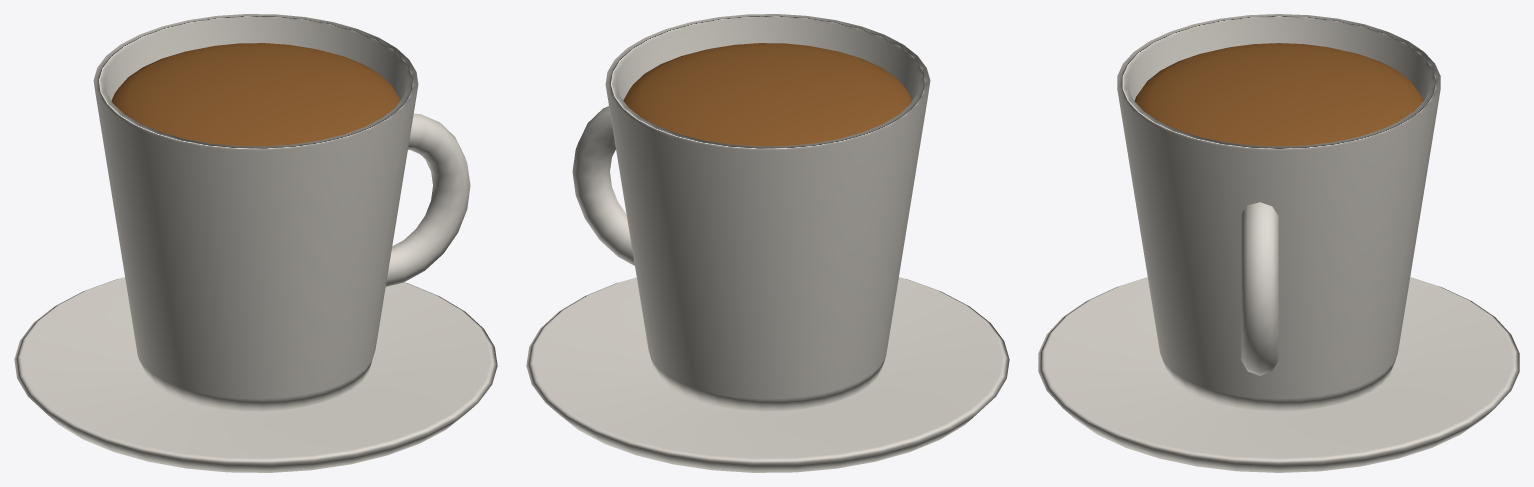
File: americano.glb
The picture shows the model from 3 angles, left to right: view 1: azimuth 30°, elevation 25°; view 2: azimuth 150°, elevation 25°; view 3: azimuth 270°, elevation 25°; orthographic projection.
Visible parts, largest first — view 1: americano; view 2: americano; view 3: americano.
Boxes of the visible parts, x1,y1,x2,y2 form: americano: (14,14,497,472); americano: (526,14,1009,472); americano: (1038,14,1519,472).
Bounding box in the file's own units: 0.122 × 0.0825 × 0.1215.
